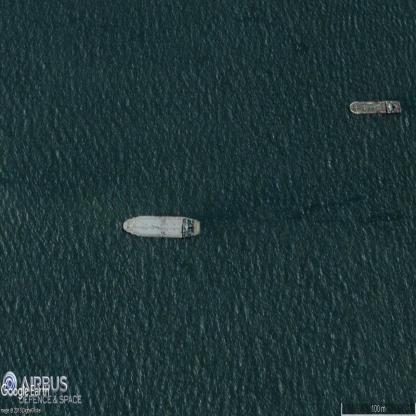ship: (121, 215, 201, 237), (350, 98, 402, 113)
